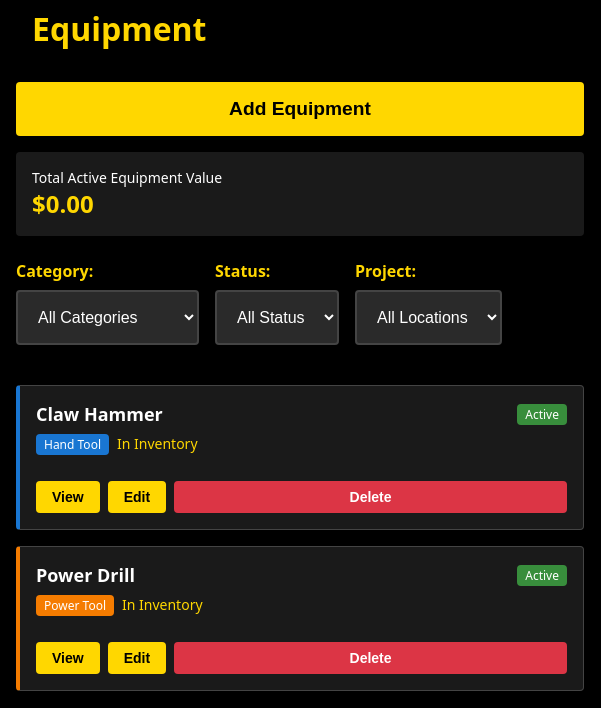
Scenario: EquipmentList › filters by category
This screenshot has width=601, height=708.
Expected: the text "Power Drill" is shown, [36,563,135,587]
Expected: the text "Claw Hammer" is shown, [36,402,163,426]
Select "Hand Tool" in the dropdown labelled "Category:": (108, 318) [16,290,199,345]
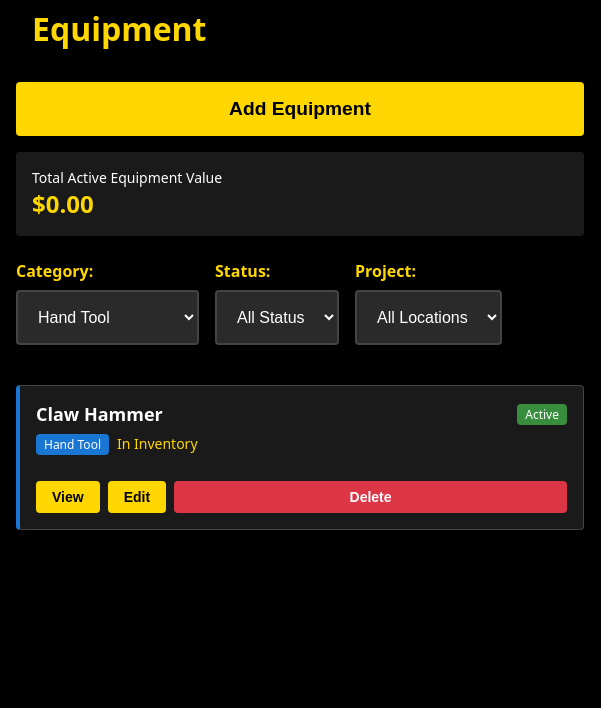
Expected: the text "Claw Hammer" is shown, [36,402,163,426]
Now the text "Power Drill" is gone
